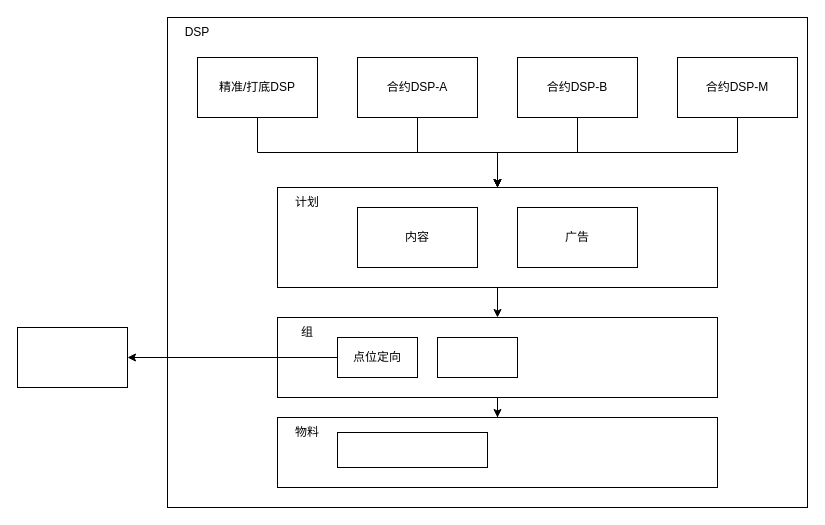
This 825x525 diagram has some shape labels left out. Here are the shapes that lost their labels. From the top down, the centre of each, then its label:
(x=72, y=357): ssp点位区分内容广告
(x=477, y=357): sku定向拆分
(x=412, y=450): 基于内容批量生成物料
